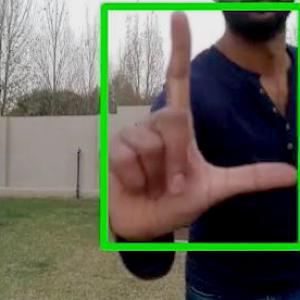land_hand: (96, 16, 280, 224)
